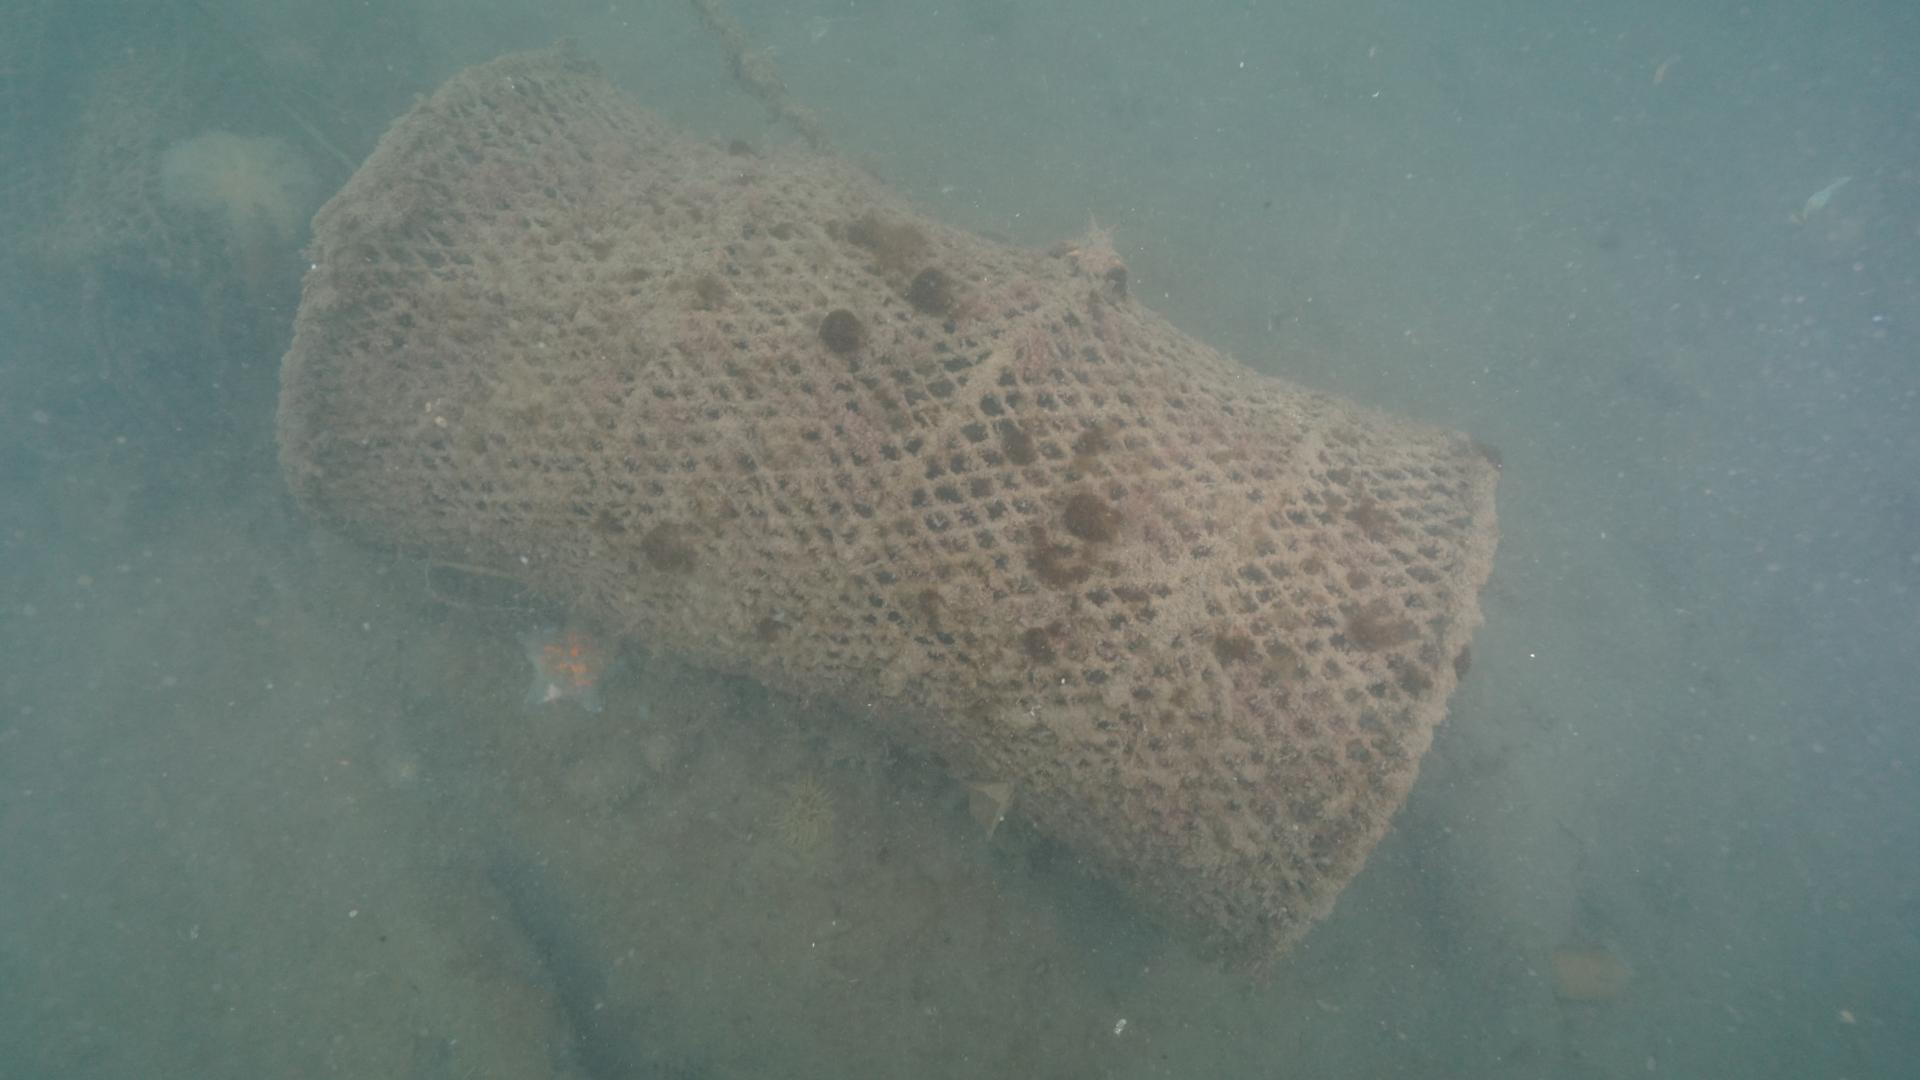spring fish trap: (274, 40, 1510, 973)
